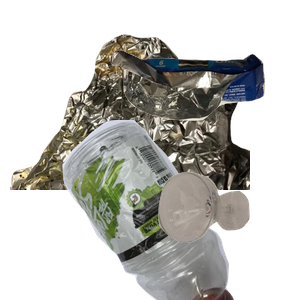glass: (156, 170, 300, 300)
metal: (10, 32, 250, 212)
plastic: (25, 120, 252, 300)
trash: (109, 47, 300, 160)
